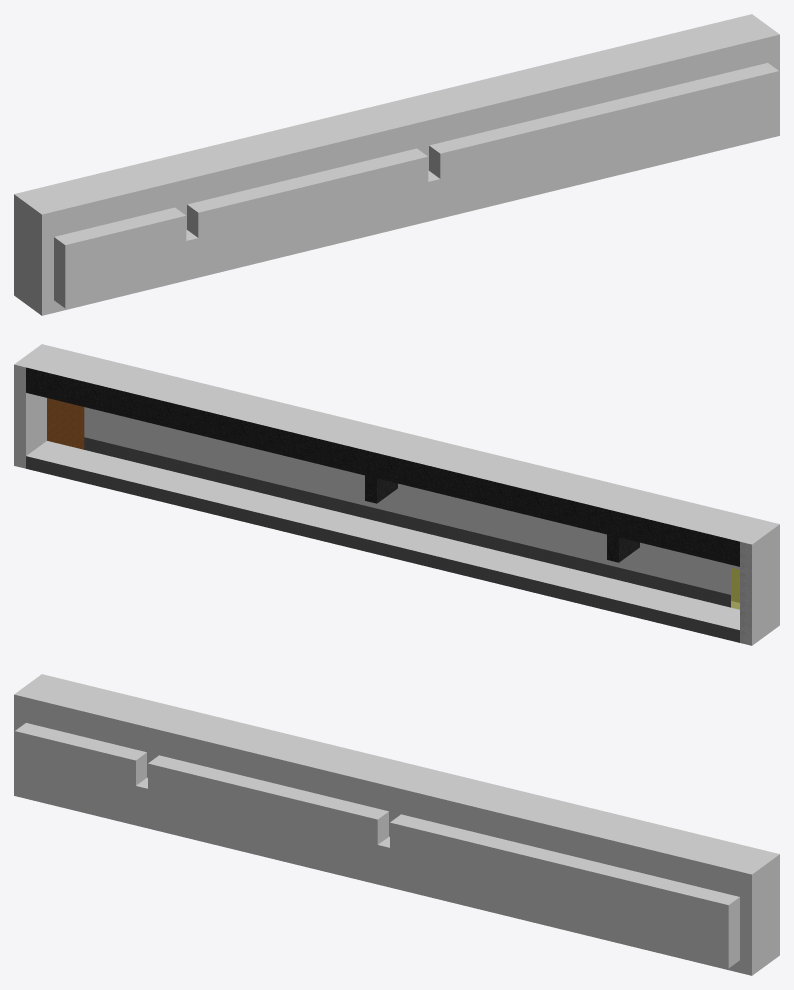
The model's file is KitchenTheaterLivingRoom.fbx.
The picture shows the model from 3 angles, top to bottom: view 1: azimuth 30°, elevation 25°; view 2: azimuth 150°, elevation 25°; view 3: azimuth 330°, elevation 25°; orthographic projection.
Parts seen in each view (by area): view 1: Model; view 2: Model; view 3: Model.
Part boxes in pixels (bbox=[...]): Model: bbox=[14, 14, 779, 315]; Model: bbox=[14, 344, 779, 645]; Model: bbox=[14, 674, 779, 975].
Size of the model in its own units: 61 by 8 by 5.61.
